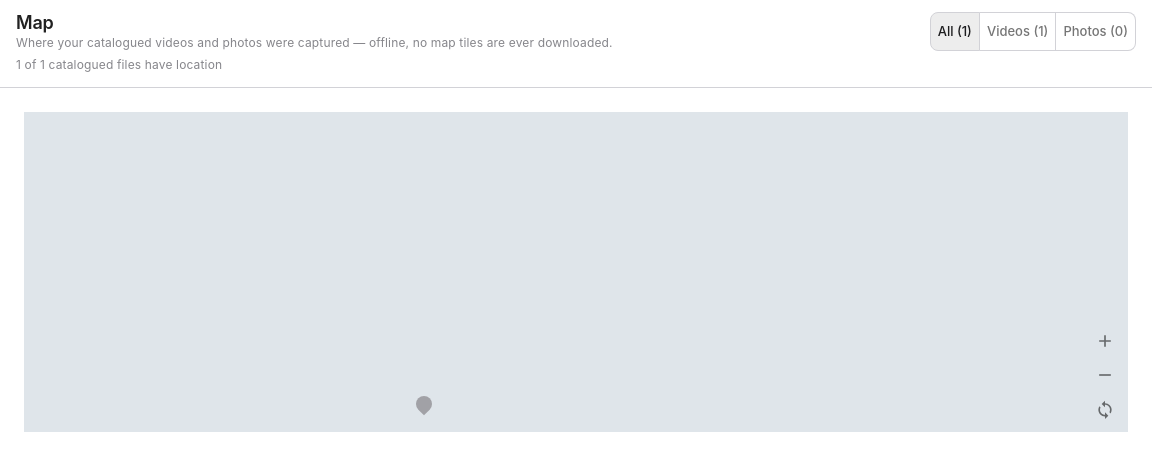
Test: MapView › disables opening a video whose folder is offline and shows the drive-not-connected chip
The image size is (1152, 449).
Click the button with test id "map-pin" at [424, 404], box x1=413 y1=392 x2=435 y2=415
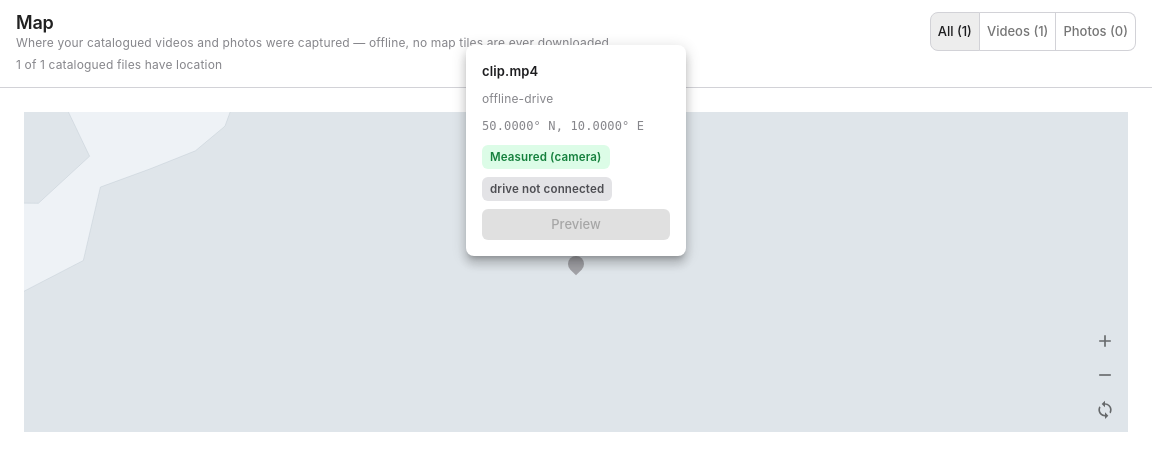
Result: the text "drive not connected" is shown at x1=482 y1=181 x2=612 y2=198
Result: the button with test id "map-open-video" is disabled at x1=482 y1=209 x2=670 y2=240
